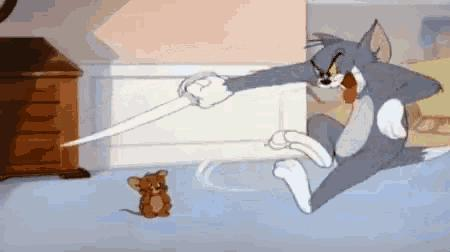jerry: (119, 169, 175, 219)
